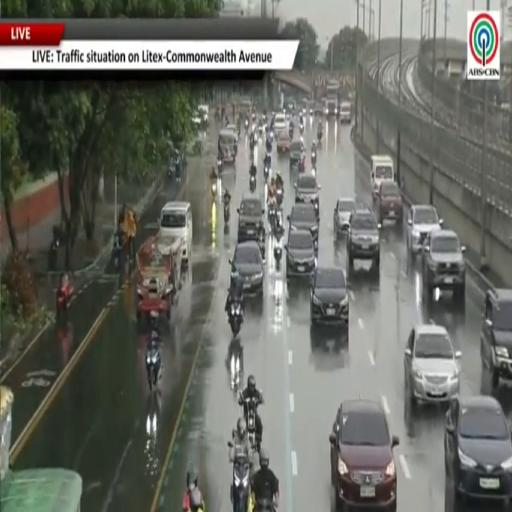bus: (0, 387, 82, 511)
car: (330, 399, 399, 511), (445, 396, 511, 509), (404, 324, 461, 405), (137, 237, 178, 322), (422, 230, 465, 303), (481, 288, 511, 389), (310, 267, 348, 331), (346, 212, 381, 275), (159, 201, 193, 264), (406, 205, 443, 258), (230, 242, 263, 295), (285, 230, 316, 279), (288, 203, 318, 248), (237, 195, 264, 242), (376, 181, 403, 223), (294, 173, 320, 216), (371, 155, 395, 200), (333, 198, 355, 235), (219, 128, 236, 164), (289, 140, 303, 169), (277, 131, 291, 153), (274, 113, 288, 134), (339, 102, 351, 124), (227, 124, 238, 142), (314, 102, 324, 116)
jeepney: (137, 237, 176, 319), (219, 130, 236, 163)
motorcycle: (231, 453, 252, 511), (227, 338, 243, 391), (146, 344, 161, 391), (245, 399, 258, 453), (56, 282, 73, 322), (48, 227, 61, 271), (228, 301, 243, 335), (112, 233, 123, 271), (48, 239, 59, 271), (258, 229, 266, 263), (274, 211, 284, 237), (253, 500, 275, 511), (268, 203, 276, 232), (274, 246, 282, 269), (223, 201, 230, 225), (264, 150, 272, 168), (276, 187, 283, 206), (249, 175, 256, 193), (312, 201, 319, 218), (211, 179, 217, 198), (298, 156, 305, 172), (217, 156, 223, 174), (264, 165, 269, 182), (250, 166, 257, 178), (311, 152, 316, 167), (215, 108, 220, 122), (250, 135, 254, 152), (269, 128, 274, 141), (237, 121, 241, 137), (258, 124, 263, 135), (318, 132, 322, 145), (245, 119, 249, 132), (312, 167, 316, 178), (289, 128, 293, 139), (300, 124, 304, 135)
truck: (325, 80, 340, 117)
